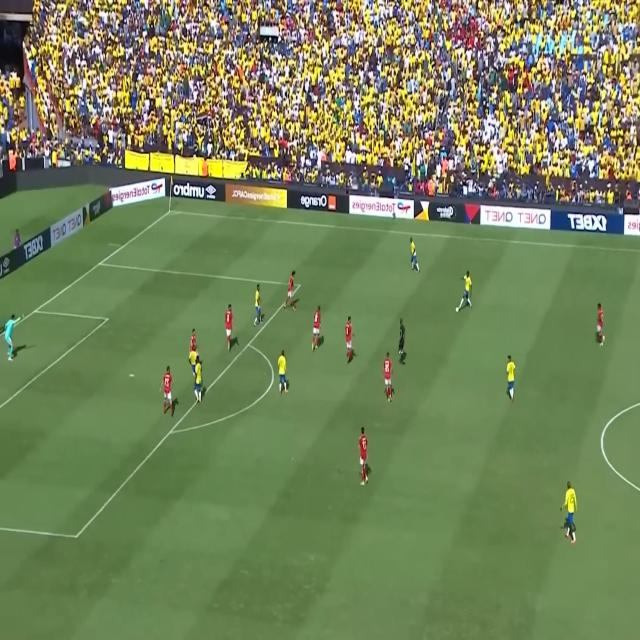Ball: (455, 306, 460, 314)
Keeper: (3, 310, 24, 364)
Player: (560, 480, 577, 544), (593, 295, 607, 351), (159, 363, 173, 418), (357, 427, 368, 486), (283, 270, 297, 312), (344, 316, 356, 364), (458, 269, 472, 310), (277, 348, 288, 396), (382, 352, 392, 400), (311, 304, 321, 351), (506, 354, 515, 404), (253, 282, 262, 327), (194, 355, 202, 405), (225, 304, 233, 350), (410, 236, 420, 272), (189, 328, 198, 368), (189, 346, 198, 384)
Ref: (395, 316, 408, 364)
